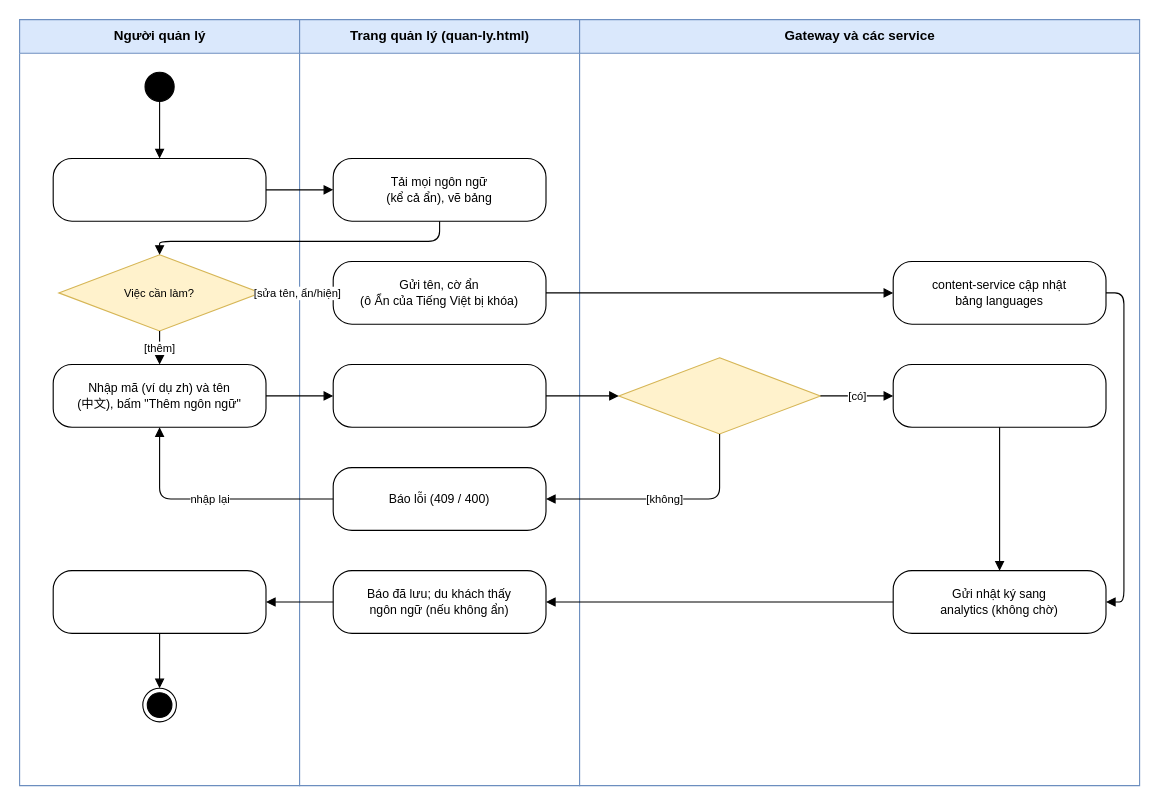
Some shapes in this 1159 by 805 pixel diagram are drawn without their labels. The shapes that lost their labels are listed below. From the top down, each one's centre as x and y in pixels, then its label:
point 159,189: Chọn tab "Ngôn ngữ"
point 439,395: Gửi POST /api/admin/languages
point 719,395: Mã đúng dạng và chưa có?
point 999,395: Thêm vào cuối danh sách (sort_order = max + 1)
point 159,601: Nhập nội dung ngôn ngữ mới cho từng điểm (CN8)
